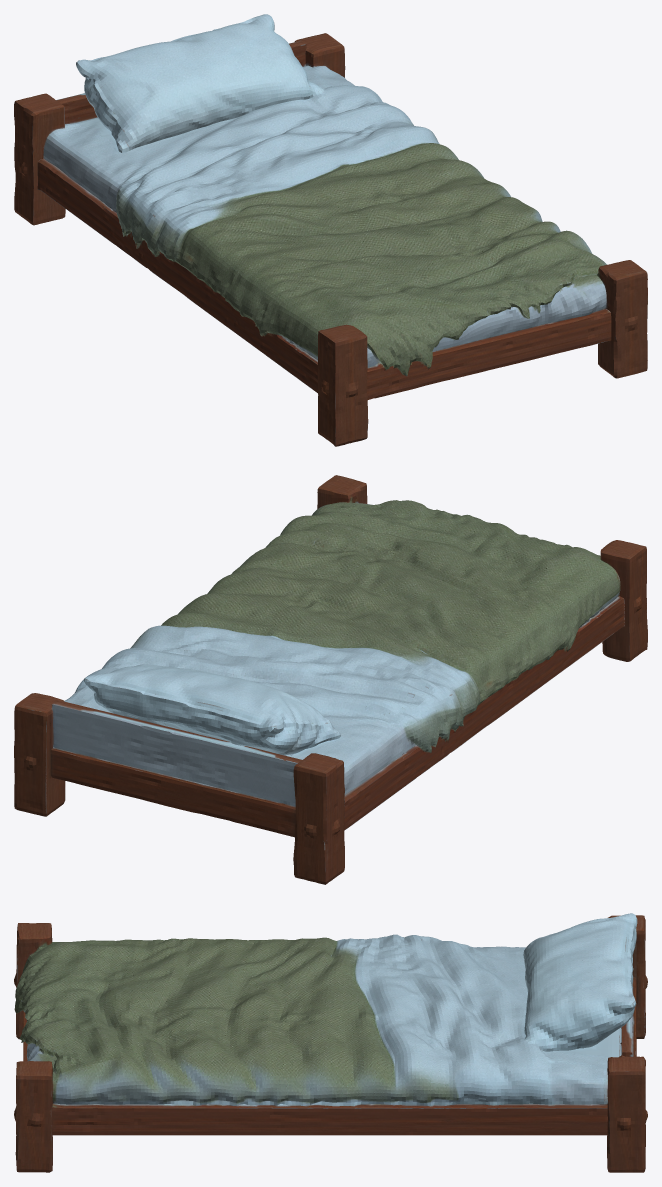
Rendered from Cama.fbx.
3 renders of one model, top to bottom at view 1: azimuth 30°, elevation 25°; view 2: azimuth 150°, elevation 25°; view 3: azimuth 270°, elevation 25°, orthographic. The views are drawn at different scales.
Parts seen in each view (by area): view 1: temp; view 2: temp; view 3: temp.
Boxes of the visible parts, left/top/right/bottom form: temp: left=14, top=14, right=647, bottom=446; temp: left=14, top=475, right=647, bottom=884; temp: left=14, top=913, right=647, bottom=1172.
Size of the model in its own units: 108 by 48.06 by 190.
Materials: 1 (1 with a texture image).
